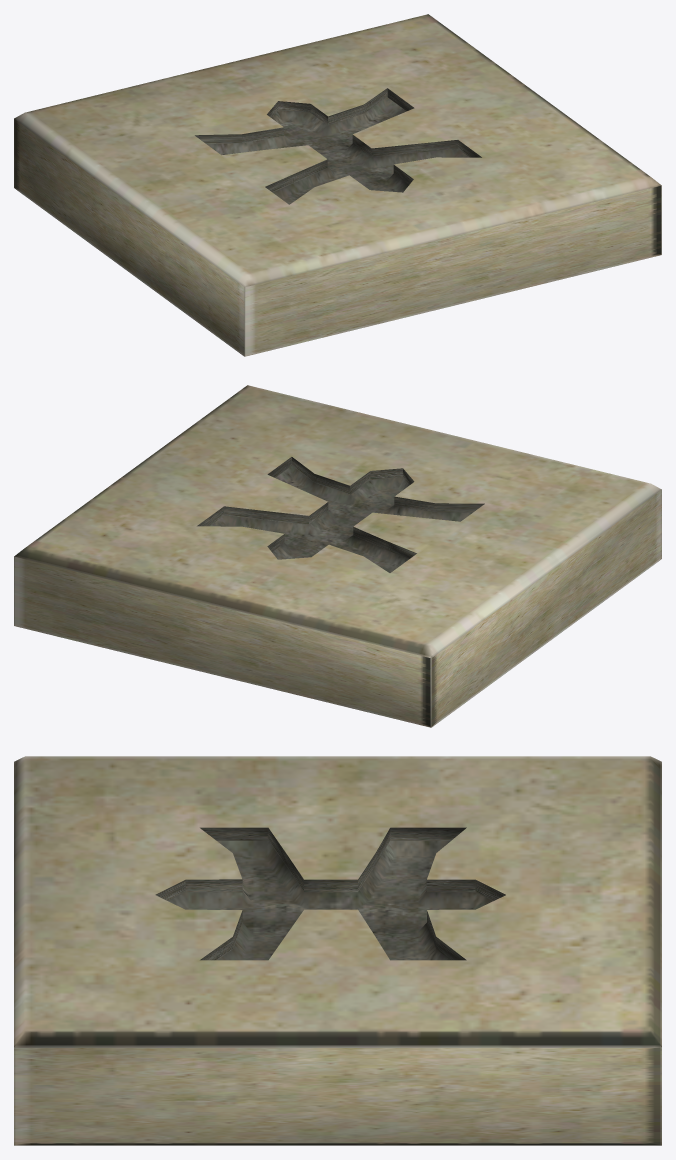
Rendered from DWARF_PALACE_THRONE_KEYPAD02.fbx.
3 views of the same model, one above another, from view 1: azimuth 30°, elevation 25°; view 2: azimuth 150°, elevation 25°; view 3: azimuth 270°, elevation 25° (orthographic). The views are drawn at different scales.
Visible parts, largest first — view 1: DWARF_PALACE_THRONE_KEYPAD02; view 2: DWARF_PALACE_THRONE_KEYPAD02; view 3: DWARF_PALACE_THRONE_KEYPAD02.
Part boxes in pixels (bbox=[...]): DWARF_PALACE_THRONE_KEYPAD02: bbox=[14, 14, 661, 356]; DWARF_PALACE_THRONE_KEYPAD02: bbox=[14, 385, 661, 727]; DWARF_PALACE_THRONE_KEYPAD02: bbox=[14, 756, 661, 1145].
Bounding box in the file's own units: 14154 × 2481 × 13544.
2 materials, 2 textured.
